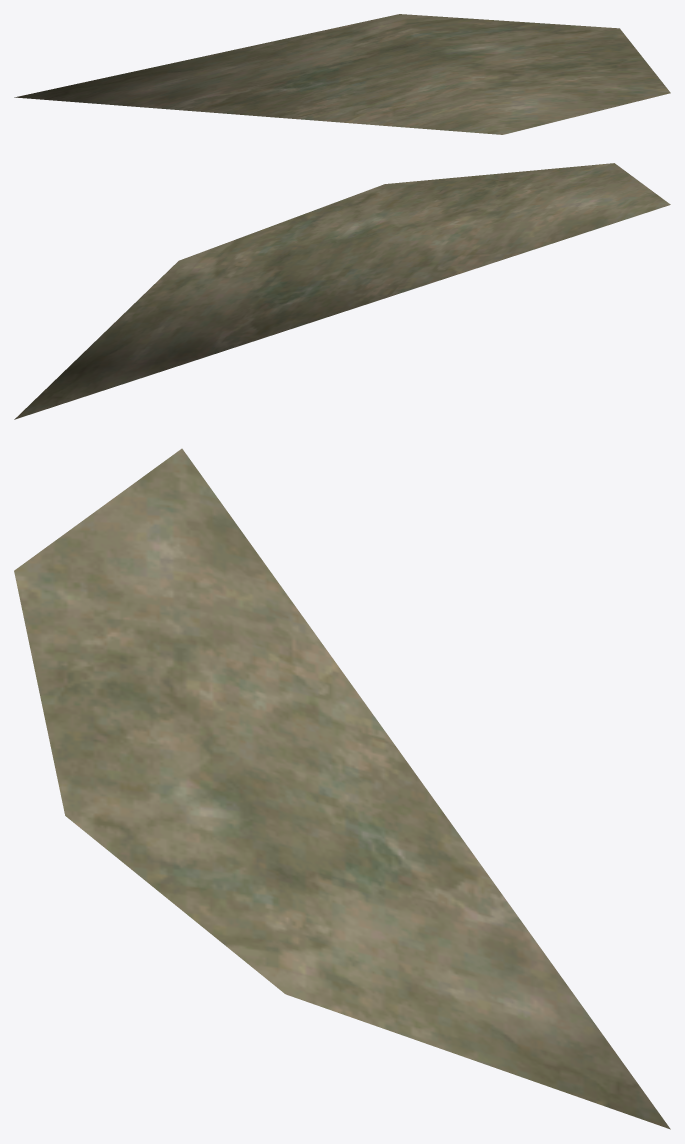
The model's file is OVERHILL_A_01_LINE75.fbx.
3 renders of one model, top to bottom at view 1: azimuth 90°, elevation 25°; view 2: azimuth 150°, elevation 25°; view 3: azimuth 270°, elevation 25°, orthographic. The views are drawn at different scales.
Parts seen in each view (by area): view 1: OVERHILL_A_01_LINE75; view 2: OVERHILL_A_01_LINE75; view 3: OVERHILL_A_01_LINE75.
Boxes of the visible parts, <box> form: OVERHILL_A_01_LINE75: <box>14,14,670,134</box>; OVERHILL_A_01_LINE75: <box>14,163,670,419</box>; OVERHILL_A_01_LINE75: <box>14,448,670,1129</box>.
Bounding box in the file's own units: 20079 × 8386 × 15513.
Materials: 1 (1 with a texture image).
